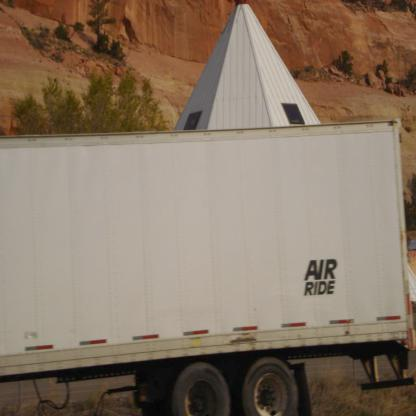Truck: (0, 114, 416, 416)
